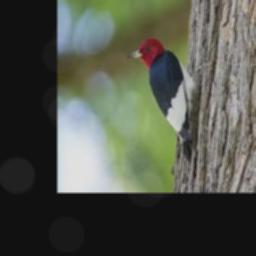Woodpecker: (126, 38, 205, 161)
